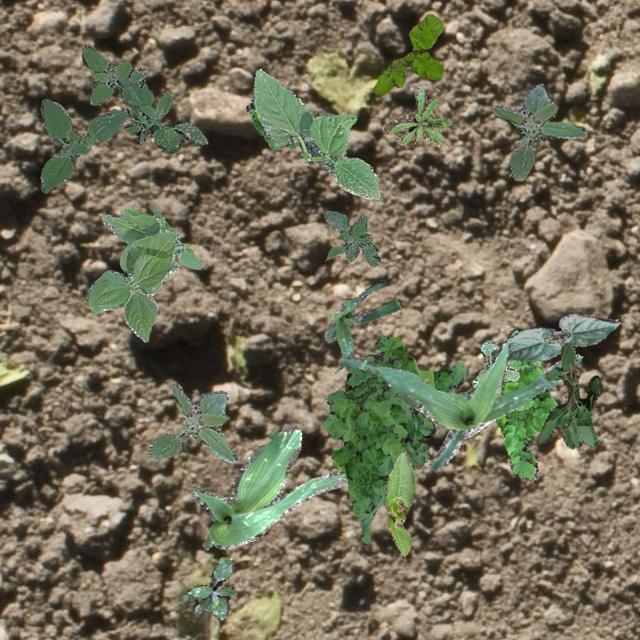crop: (342, 342, 582, 470), (192, 424, 346, 548), (252, 68, 378, 200), (86, 204, 202, 340), (324, 278, 402, 370), (490, 312, 620, 360), (384, 452, 414, 554)
weed: (322, 336, 468, 542), (38, 44, 206, 192), (494, 326, 556, 481), (490, 82, 586, 180), (148, 384, 236, 462), (536, 342, 600, 448), (370, 12, 442, 94), (382, 84, 450, 146), (182, 556, 235, 618), (324, 210, 379, 266), (244, 98, 294, 148), (471, 338, 517, 388)
